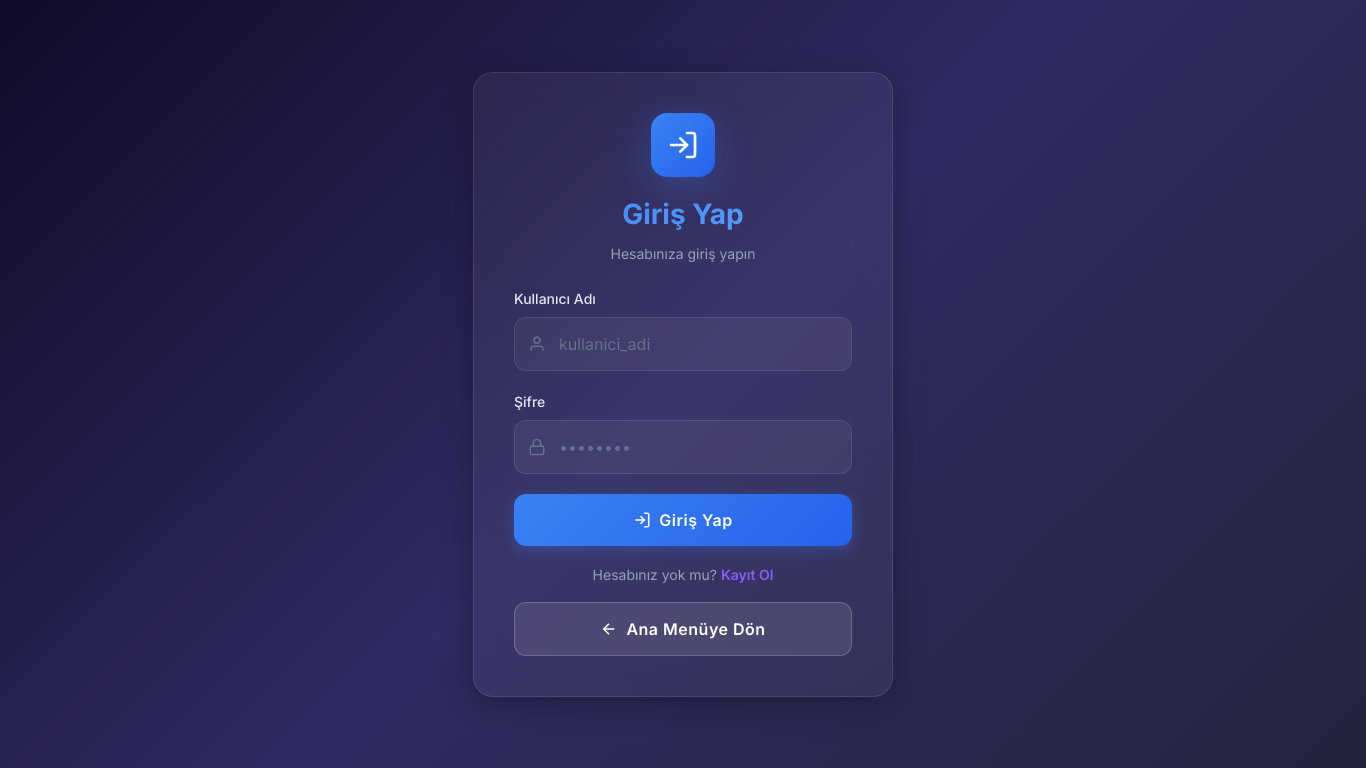
Test: LoginScreen › displays error message on failure
In the field labelled "Kullanıcı Adı": (683,344) [514,316,852,370], type "testuser"
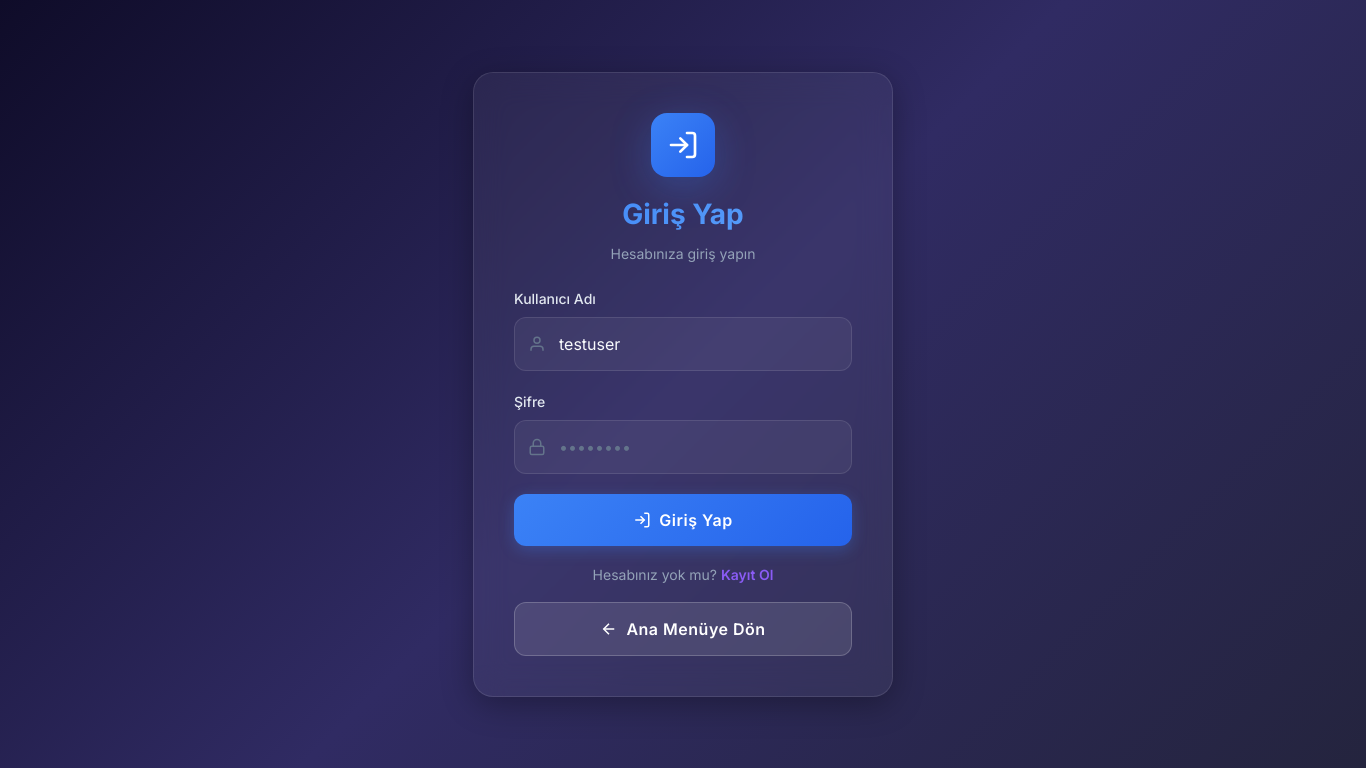
In the password field labelled "Şifre": (683,446) [514,420,852,474], type "wrongpass"
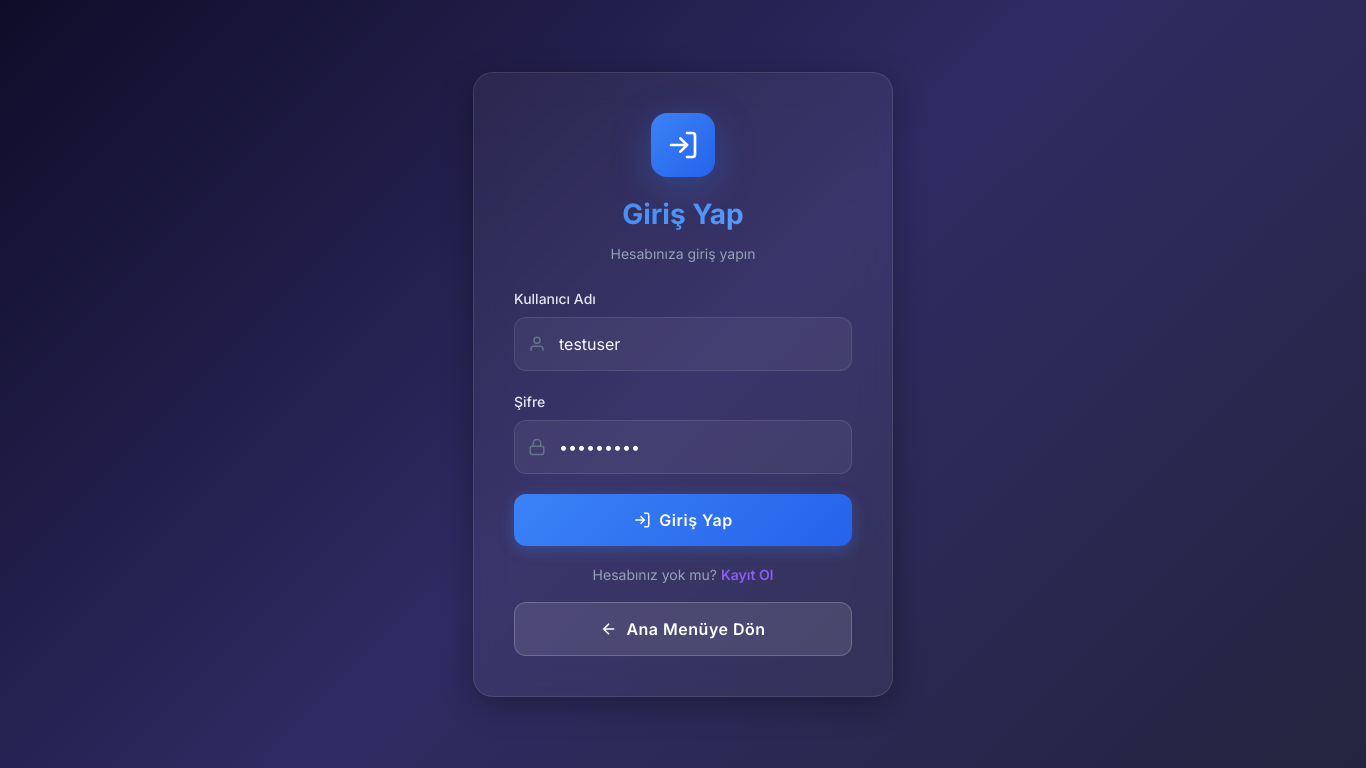
Click the button "Giriş Yap": (683,520) [514,494,852,546]
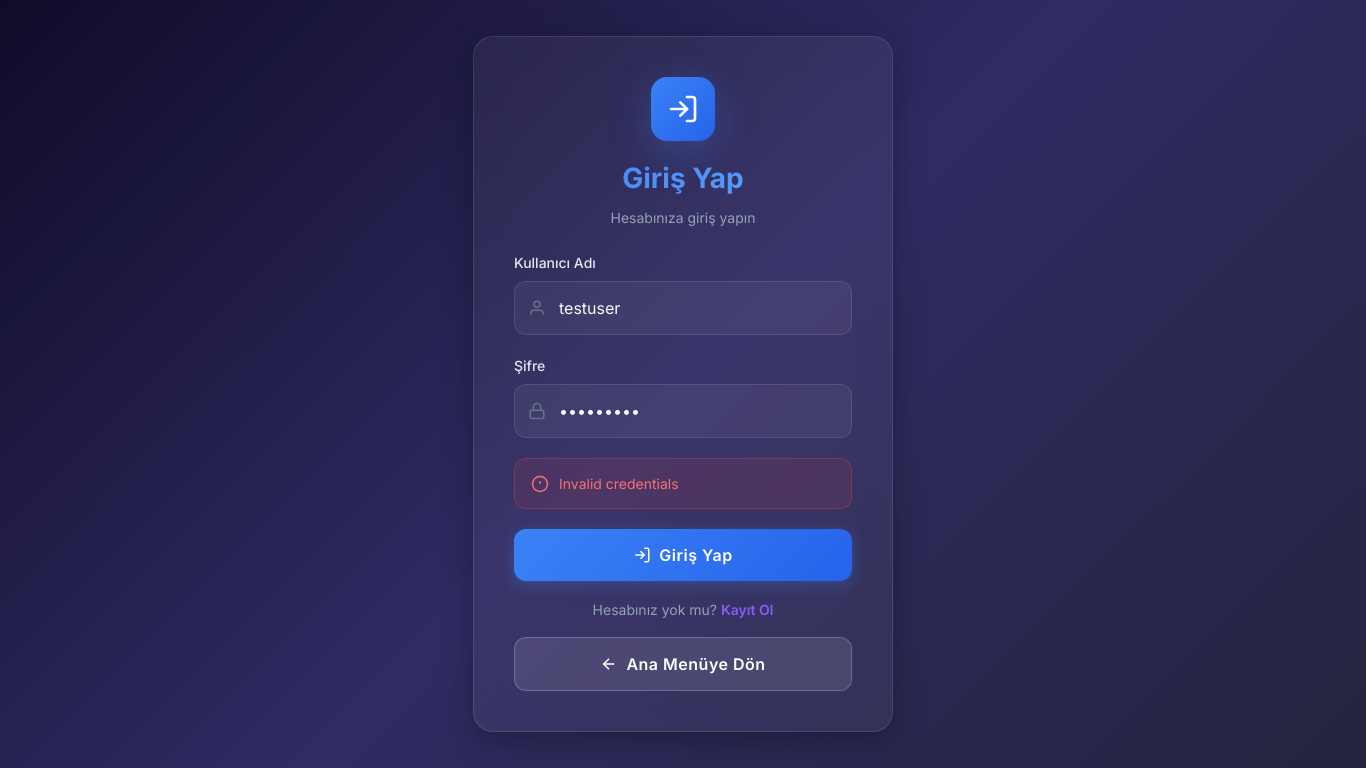
Now the text "Invalid credentials" is shown, box [514,458,852,509]
